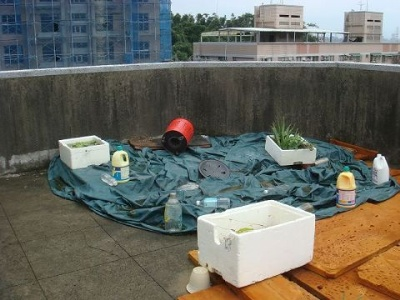bottle: (162, 191, 183, 230), (335, 167, 356, 206), (110, 145, 130, 184), (370, 153, 389, 187), (195, 197, 231, 208), (99, 172, 117, 186)
bowl: (185, 266, 210, 294)
bucket: (161, 116, 195, 152)
plastic_bag: (232, 168, 337, 211), (131, 148, 200, 186)
styrofoam: (196, 199, 317, 288), (57, 134, 109, 169), (263, 134, 315, 167)
